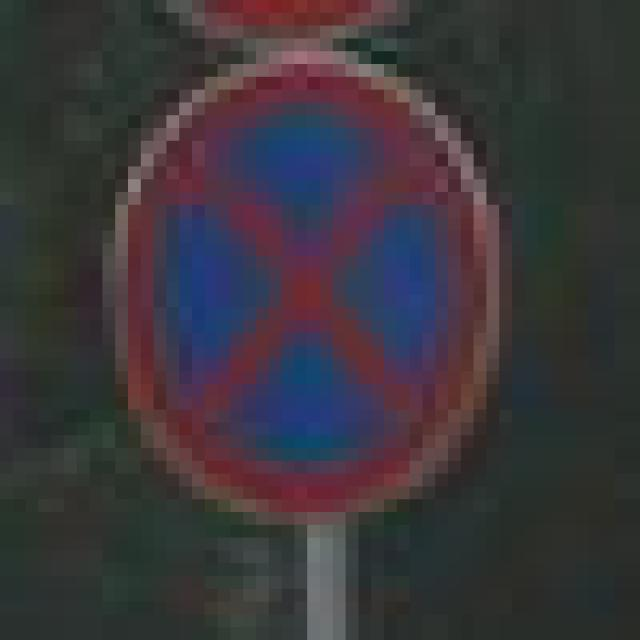no_parking: (90, 51, 487, 499)
